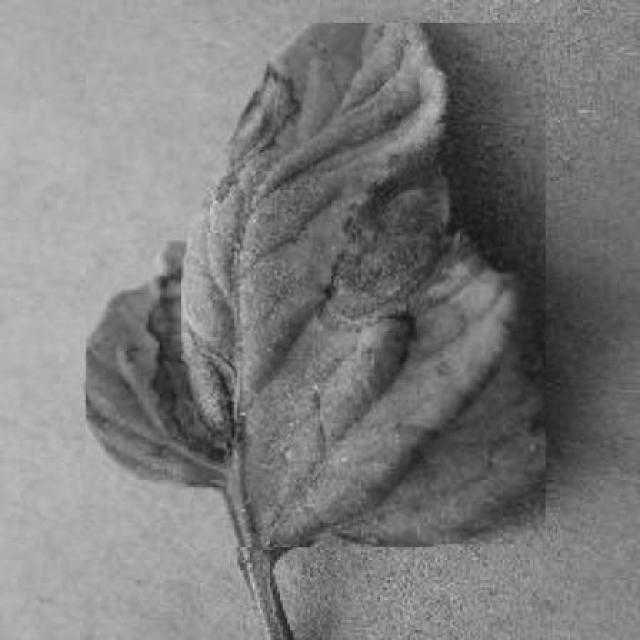Early Blight: (86, 23, 546, 547)
